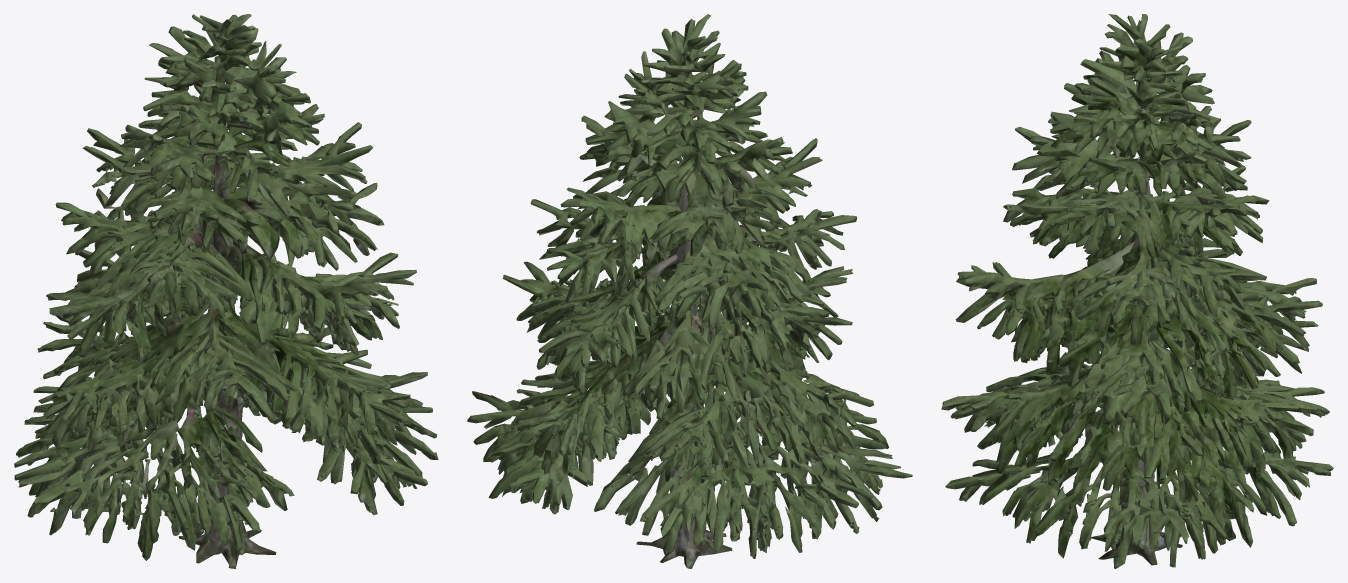
File: fir-fabri-01-web.glb
3 renders of one model, left to right at view 1: azimuth 30°, elevation 25°; view 2: azimuth 150°, elevation 25°; view 3: azimuth 270°, elevation 25°, orthographic. The views are drawn at different scales.
Visible parts, largest first — view 1: geometry_0; view 2: geometry_0; view 3: geometry_0.
Boxes of the visible parts, x1,y1,x2,y2 form: geometry_0: [14, 14, 438, 568]; geometry_0: [467, 14, 912, 568]; geometry_0: [941, 14, 1333, 568].
Size of the model in its own units: 6.56 by 8 by 5.39.
1 material, 1 textured.
